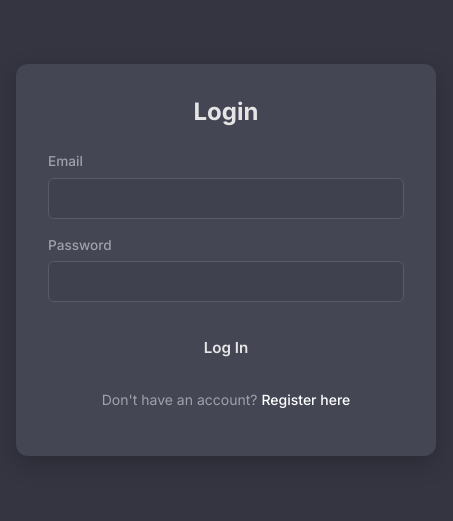
Test case: Login page › shows verification error and resend button when email not verified
The image size is (453, 521).
Step 1. Type "user@example.com" into the field labelled "Email" → coordinates (226, 198), box [48,178,404,219]
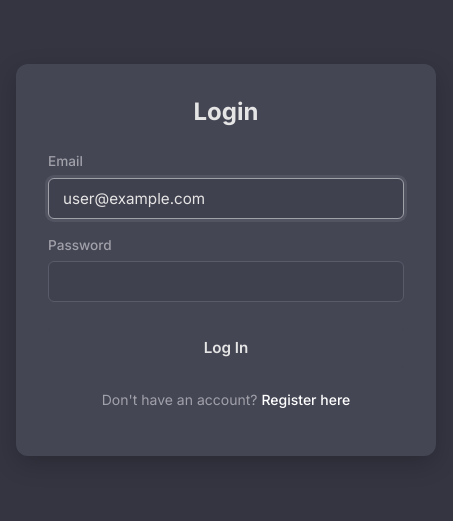
Step 2. Type "Password1" into the password field labelled "Password" → coordinates (226, 282), box [48,261,404,302]
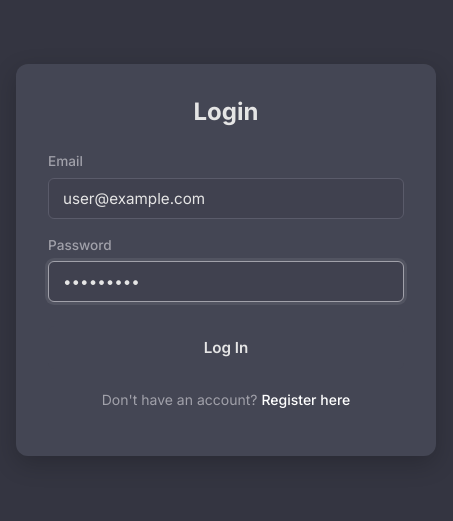
Step 3. Click the button "Log In" → coordinates (226, 348), box [48,326,404,369]
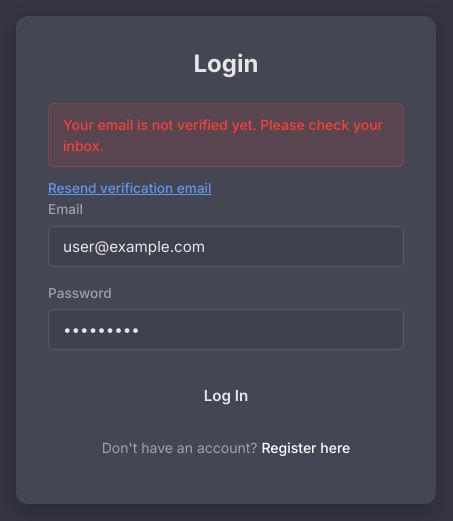
Expected: the text "Your email is not verified yet. Please check your inbox." is shown, [48,103,404,167]
Expected: the button "Resend verification email" is shown, [48,180,212,196]
